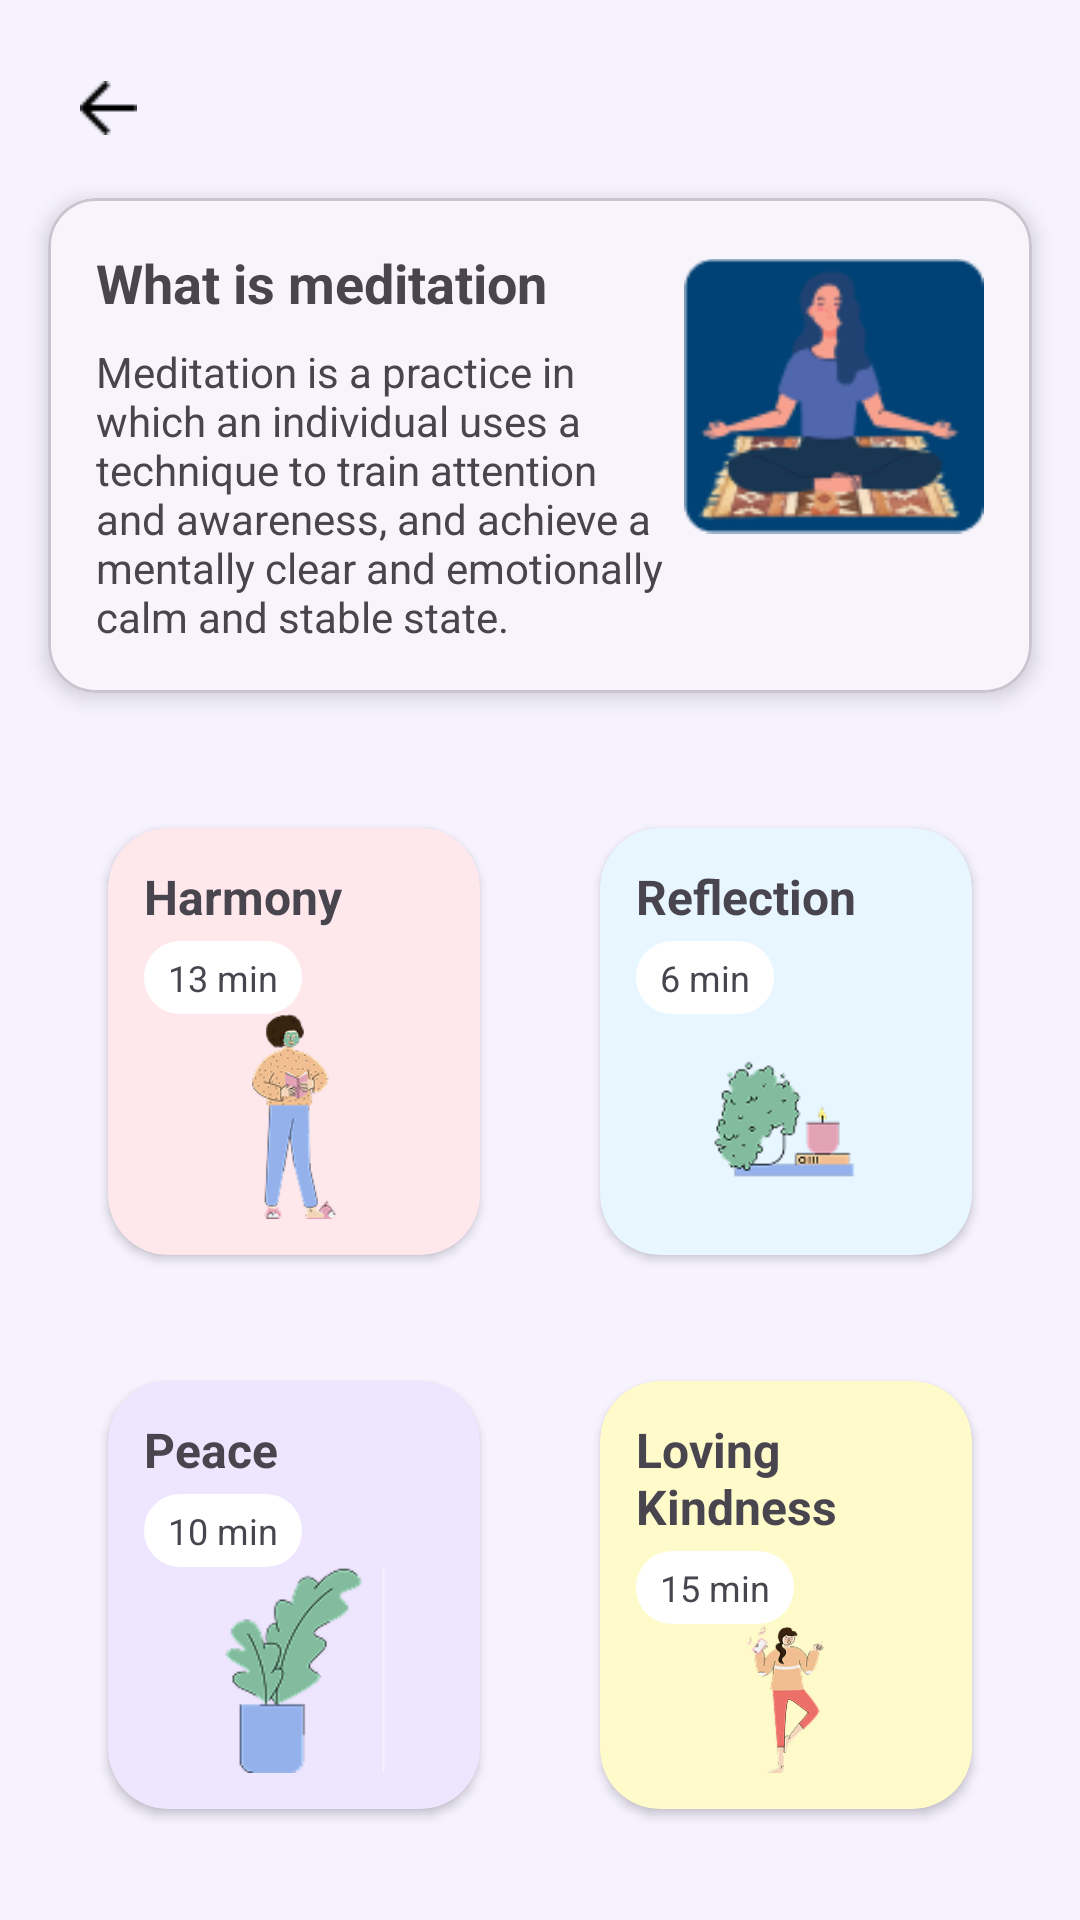

Locate icon controls on the screen. Image size 1080x1920, boxes as [x1, y1, x2, y2].
Back: [80, 81, 137, 135]
